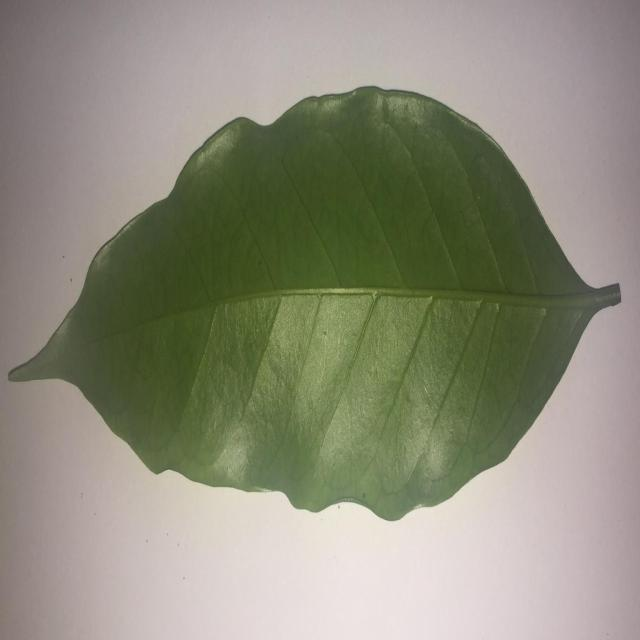nodisease: (9, 87, 621, 521)
